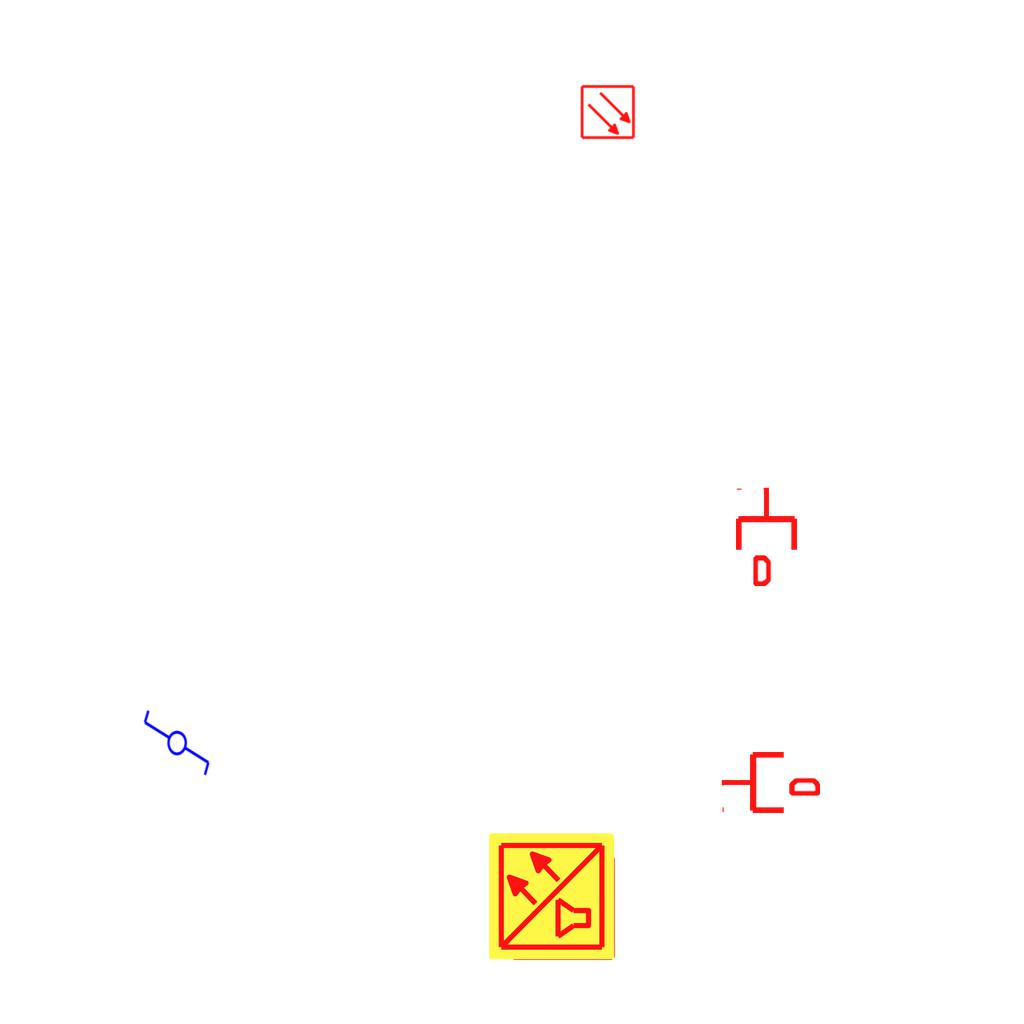Datenanschluss_einfach: (720, 748, 820, 817), (732, 486, 801, 586)
OKW_Multisensormelder_(Kombination_optischer_Rauch-Kahlenmonoxid_Waerme-Melder): (486, 830, 618, 962)
RMO_Rauchmelder_optischer: (580, 84, 636, 140)
Wechselschalter: (140, 708, 212, 786)
